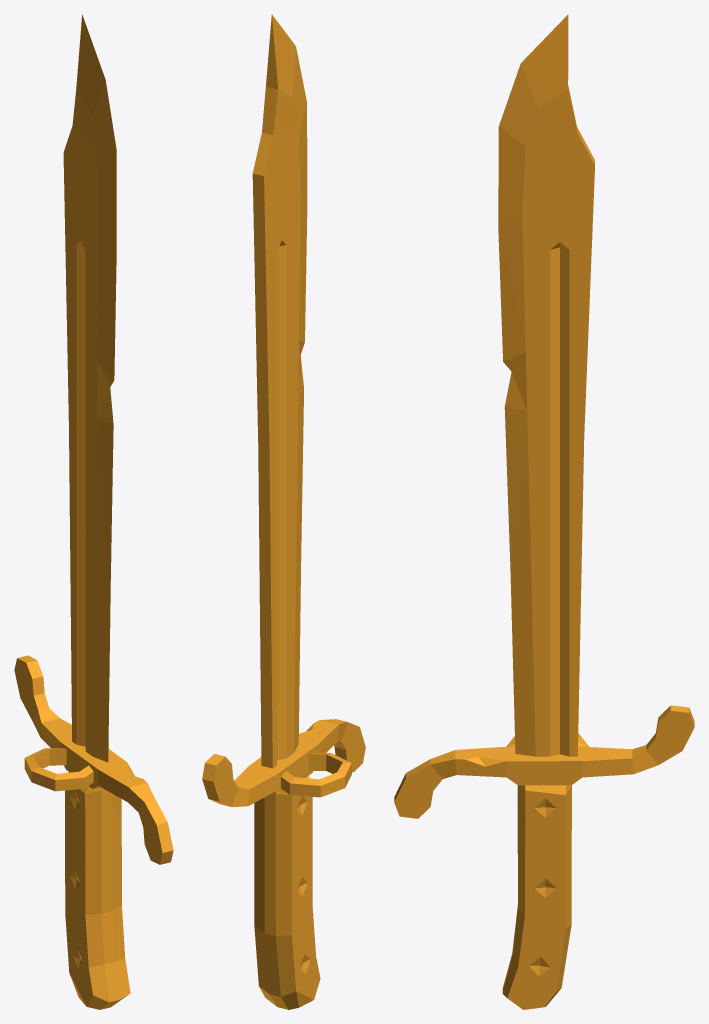
Rendered from SM_Messer_Fantasy.fbx.
3 renders of one model, left to right at view 1: azimuth 30°, elevation 25°; view 2: azimuth 150°, elevation 25°; view 3: azimuth 270°, elevation 25°, orthographic. The views are drawn at different scales.
Visible parts, largest first — view 1: messer-fantasy; view 2: messer-fantasy; view 3: messer-fantasy.
Boxes of the visible parts, box(x1,y1,x2,y2) form: messer-fantasy: box(14, 14, 173, 1009); messer-fantasy: box(202, 14, 365, 1009); messer-fantasy: box(394, 14, 694, 1009).
Size of the model in its own units: 0.0626 by 0.7375 by 0.2026.
